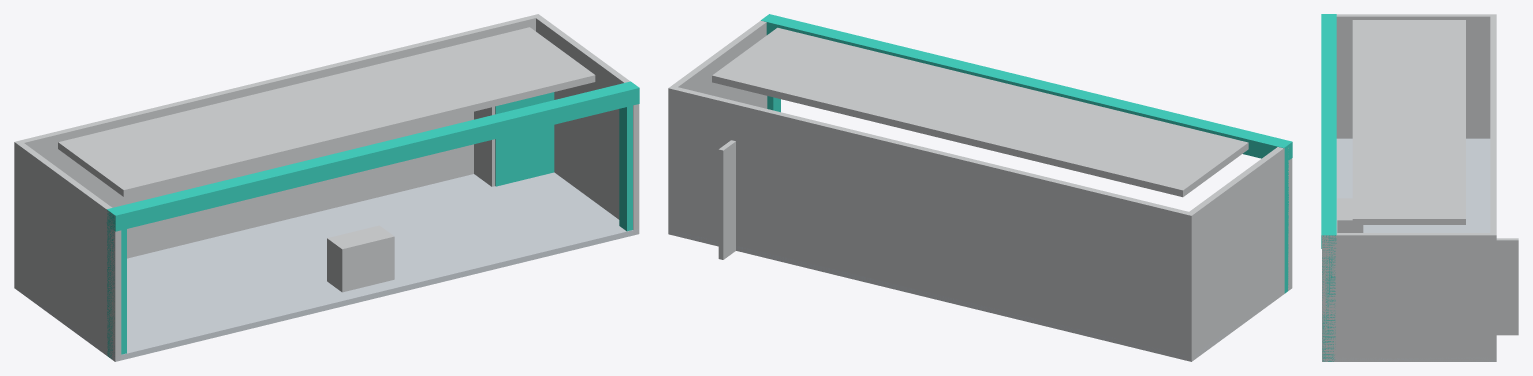
3 views of the same model, side by side, from view 1: azimuth 30°, elevation 25°; view 2: azimuth 150°, elevation 25°; view 3: azimuth 270°, elevation 25° (orthographic). The views are drawn at different scales.
Parts seen in each view (by area): view 1: Exhibition Booth Concept; view 2: Exhibition Booth Concept; view 3: Exhibition Booth Concept.
Part boxes in pixels (bbox=[...]): Exhibition Booth Concept: bbox=[14, 14, 639, 361]; Exhibition Booth Concept: bbox=[668, 14, 1292, 361]; Exhibition Booth Concept: bbox=[1321, 14, 1518, 361].
Size of the model in its own units: 12 by 3.34 by 4.52.
